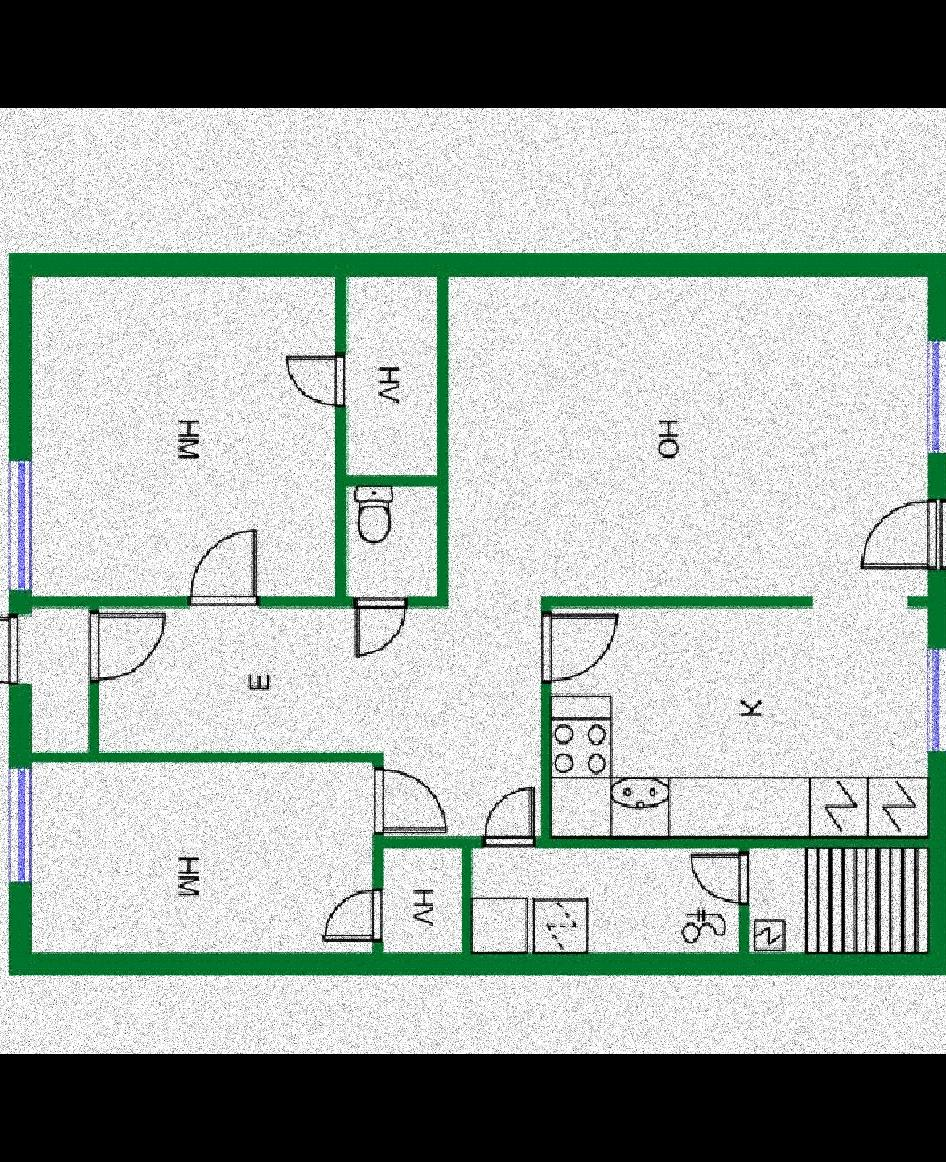door: (852, 497, 946, 584), (184, 526, 266, 609), (371, 768, 459, 837), (88, 610, 161, 680), (342, 595, 405, 664), (283, 351, 344, 413), (478, 786, 537, 849), (315, 891, 387, 939), (0, 621, 15, 695)
window: (3, 773, 36, 881), (9, 462, 33, 591), (920, 644, 946, 749), (921, 343, 946, 451)
zone: (15, 278, 926, 843), (31, 280, 340, 592), (35, 764, 376, 955), (480, 848, 738, 952), (750, 845, 926, 950), (349, 276, 438, 474), (353, 486, 435, 595), (380, 849, 462, 958)
